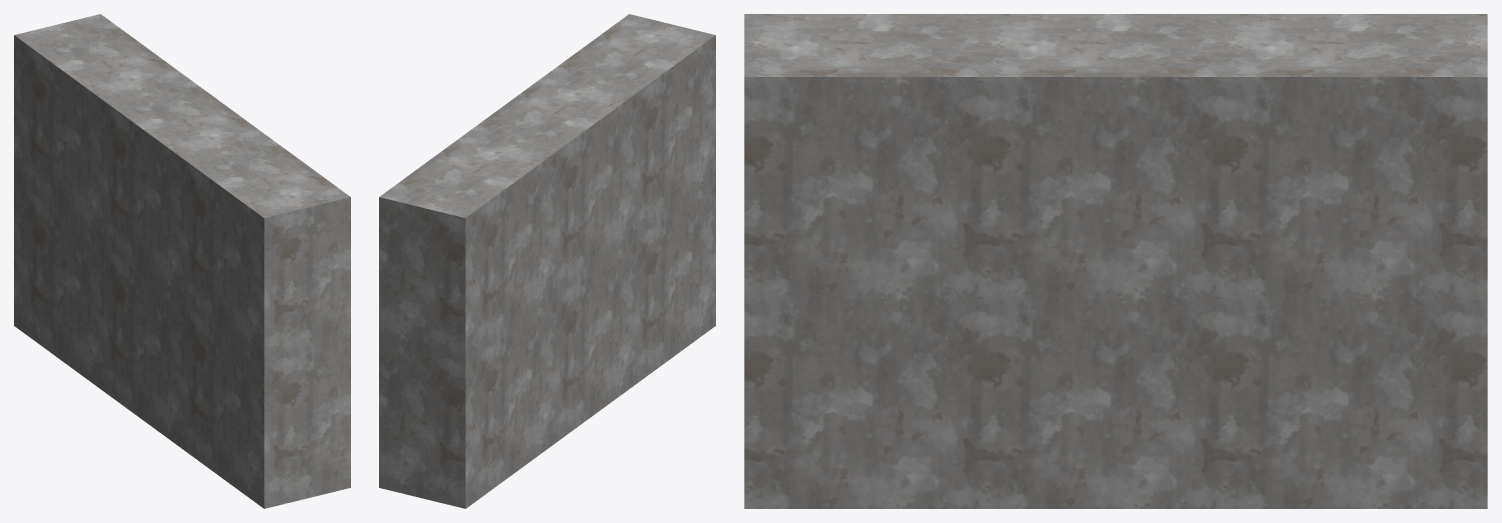
Rendered from AlleywayWallE.fbx.
3 renders of one model, left to right at view 1: azimuth 30°, elevation 25°; view 2: azimuth 150°, elevation 25°; view 3: azimuth 270°, elevation 25°, orthographic. The views are drawn at different scales.
Parts seen in each view (by area): view 1: AlleywayWallE; view 2: AlleywayWallE; view 3: AlleywayWallE.
Part boxes in pixels (x1,y1,x2,y2): AlleywayWallE: (14, 14, 350, 508); AlleywayWallE: (379, 14, 715, 508); AlleywayWallE: (744, 14, 1487, 508).
Size of the model in its own units: 500 by 1603 by 2500.
